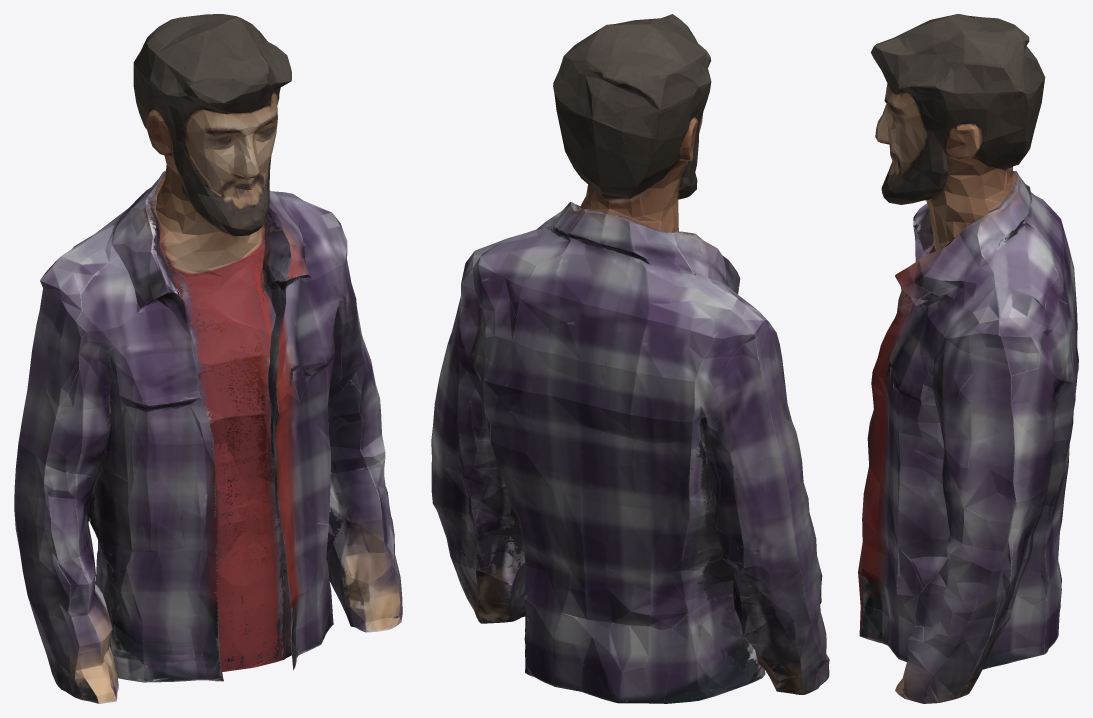
Rendered from step_4.glb.
3 renders of one model, left to right at view 1: azimuth 30°, elevation 25°; view 2: azimuth 150°, elevation 25°; view 3: azimuth 270°, elevation 25°, orthographic. The views are drawn at different scales.
Visible parts, largest first — view 1: geometry_0; view 2: geometry_0; view 3: geometry_0.
Part boxes in pixels (x1,y1,x2,y2): geometry_0: (14, 14, 402, 703); geometry_0: (431, 14, 829, 703); geometry_0: (858, 14, 1078, 703).
Bounding box in the file's own units: 0.5061 × 0.8284 × 0.2754.
1 material, 1 textured.
